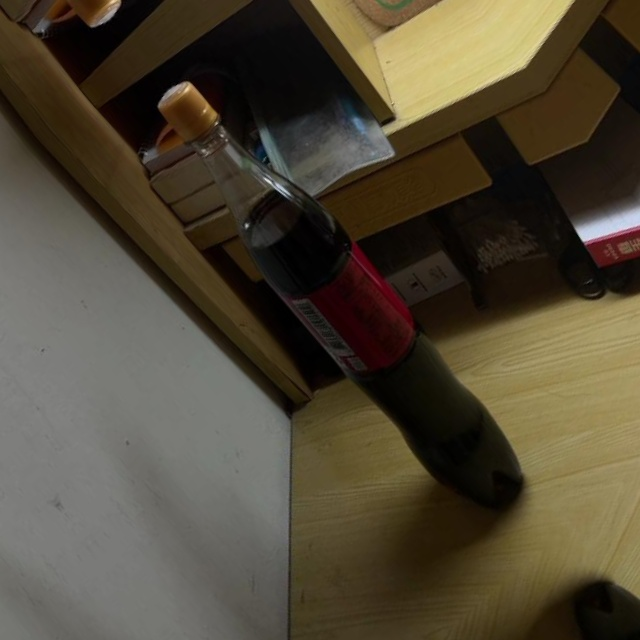Coca-Cola: (130, 60, 547, 532)
